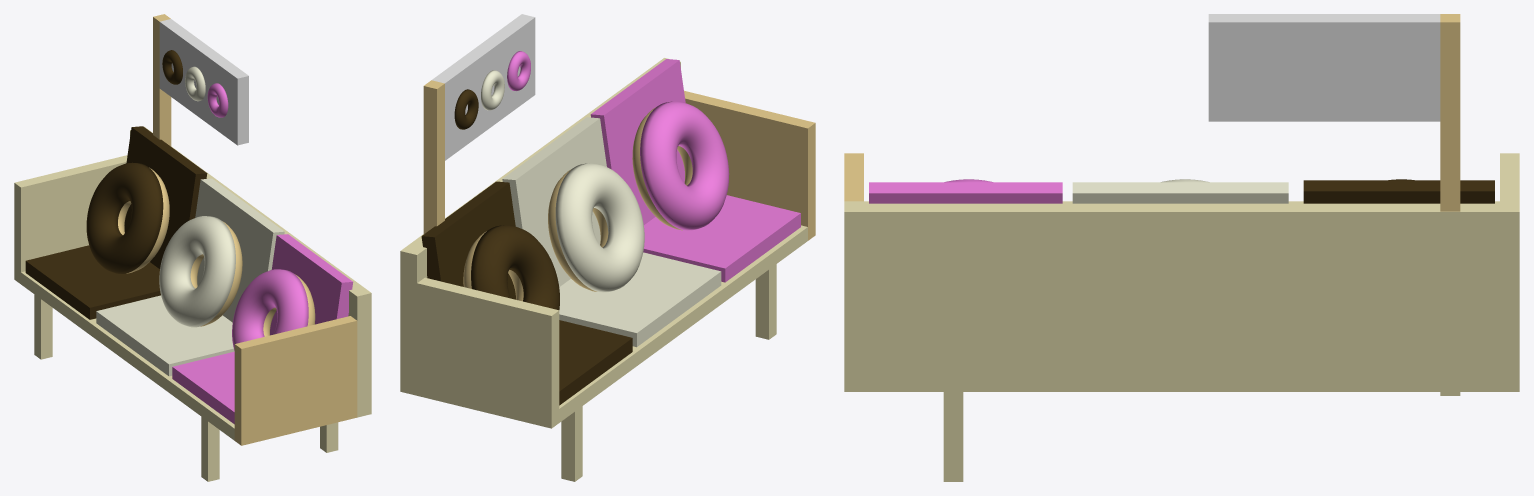
The model's file is end.glb.
3 views of the same model, side by side, from view 1: azimuth 30°, elevation 25°; view 2: azimuth 150°, elevation 25°; view 3: azimuth 270°, elevation 25° (orthographic). The views are drawn at different scales.
Visible parts, largest first — view 1: ced3d17a-720b-d8a8-4773-bd61155cc810, 79e2bbb0-c6ce-4fc2-9217-c9889e4cc48a, 326b45ac-7b6f-2dbb-577c-819a11834134, Torus.006, Torus.004, 569ba0f5-93f9-2cbd-0e7f-1e802ae2e543, d5484ebe-3107-d782-2826-4f7cdddace36, 1ae8da26-60f3-6548-2805-11384ddcfea0, a21bf0f2-477d-1c12-8ad0-914abdc64a7c, Torus.002, 113b6047-5e14-9d67-6849-f279ecfe2e0f, 1bf761f0-0898-b045-8a93-bf0cb53145b4 (+11 smaller); view 2: 79e2bbb0-c6ce-4fc2-9217-c9889e4cc48a, ced3d17a-720b-d8a8-4773-bd61155cc810, 326b45ac-7b6f-2dbb-577c-819a11834134, Torus.002, Torus.004, 569ba0f5-93f9-2cbd-0e7f-1e802ae2e543, 6574a891-8440-cb8f-f037-19822518f1e3, 1ae8da26-60f3-6548-2805-11384ddcfea0, 113b6047-5e14-9d67-6849-f279ecfe2e0f, Torus.006, a21bf0f2-477d-1c12-8ad0-914abdc64a7c, 1bf761f0-0898-b045-8a93-bf0cb53145b4 (+10 smaller); view 3: 341228f8-a4c3-860e-3da8-2c5503216557, 326b45ac-7b6f-2dbb-577c-819a11834134, 1ae8da26-60f3-6548-2805-11384ddcfea0, 113b6047-5e14-9d67-6849-f279ecfe2e0f, a21bf0f2-477d-1c12-8ad0-914abdc64a7c, a2c22d0b-6590-fd35-f11c-66e60c609305, 79e2bbb0-c6ce-4fc2-9217-c9889e4cc48a, ced3d17a-720b-d8a8-4773-bd61155cc810.
Boxes of the visible parts, bbox=[...] form: ced3d17a-720b-d8a8-4773-bd61155cc810: bbox=[234, 316, 357, 445]; 79e2bbb0-c6ce-4fc2-9217-c9889e4cc48a: bbox=[14, 155, 127, 283]; 326b45ac-7b6f-2dbb-577c-819a11834134: bbox=[153, 14, 248, 146]; Torus.006: bbox=[86, 162, 163, 273]; Torus.004: bbox=[159, 216, 235, 327]; 569ba0f5-93f9-2cbd-0e7f-1e802ae2e543: bbox=[96, 295, 234, 376]; d5484ebe-3107-d782-2826-4f7cdddace36: bbox=[25, 245, 160, 319]; 1ae8da26-60f3-6548-2805-11384ddcfea0: bbox=[195, 178, 284, 322]; a21bf0f2-477d-1c12-8ad0-914abdc64a7c: bbox=[124, 126, 207, 268]; Torus.002: bbox=[232, 269, 308, 350]; 113b6047-5e14-9d67-6849-f279ecfe2e0f: bbox=[270, 234, 353, 335]; 1bf761f0-0898-b045-8a93-bf0cb53145b4: bbox=[21, 271, 234, 440]; 79e2bbb0-c6ce-4fc2-9217-c9889e4cc48a: bbox=[417, 277, 559, 428]; ced3d17a-720b-d8a8-4773-bd61155cc810: bbox=[684, 90, 815, 240]; 326b45ac-7b6f-2dbb-577c-819a11834134: bbox=[423, 14, 535, 233]; Torus.002: bbox=[640, 101, 729, 230]; Torus.004: bbox=[555, 163, 644, 292]; 569ba0f5-93f9-2cbd-0e7f-1e802ae2e543: bbox=[559, 252, 721, 347]; 6574a891-8440-cb8f-f037-19822518f1e3: bbox=[643, 195, 800, 282]; 1ae8da26-60f3-6548-2805-11384ddcfea0: bbox=[502, 117, 606, 286]; 113b6047-5e14-9d67-6849-f279ecfe2e0f: bbox=[590, 59, 685, 224]; Torus.006: bbox=[471, 225, 559, 310]; a21bf0f2-477d-1c12-8ad0-914abdc64a7c: bbox=[421, 181, 515, 299]; 1bf761f0-0898-b045-8a93-bf0cb53145b4: bbox=[559, 225, 807, 422]; 341228f8-a4c3-860e-3da8-2c5503216557: bbox=[844, 201, 1519, 391]; 326b45ac-7b6f-2dbb-577c-819a11834134: bbox=[1208, 14, 1460, 211]; 1ae8da26-60f3-6548-2805-11384ddcfea0: bbox=[1072, 182, 1288, 203]; 113b6047-5e14-9d67-6849-f279ecfe2e0f: bbox=[869, 182, 1062, 203]; a21bf0f2-477d-1c12-8ad0-914abdc64a7c: bbox=[1303, 180, 1494, 203]; a2c22d0b-6590-fd35-f11c-66e60c609305: bbox=[943, 392, 963, 481]; 79e2bbb0-c6ce-4fc2-9217-c9889e4cc48a: bbox=[1500, 153, 1519, 201]; ced3d17a-720b-d8a8-4773-bd61155cc810: bbox=[844, 153, 863, 201].
Bounding box in the file's own units: 4.04 × 9.16 × 12.21.
